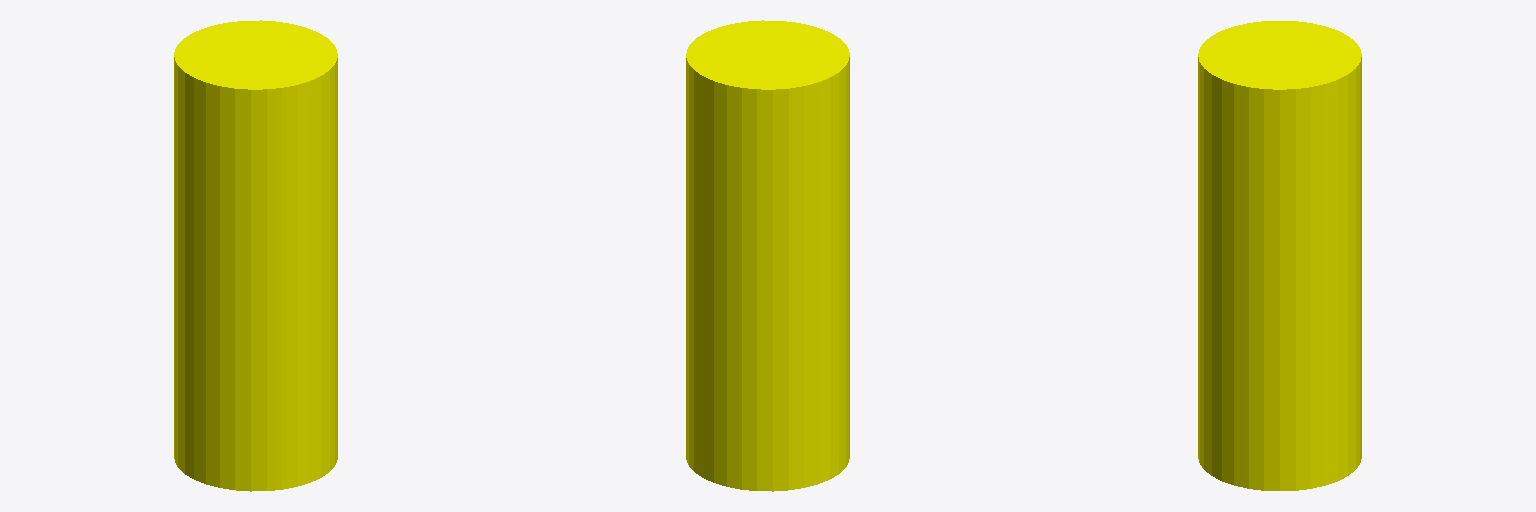
The robot description file, URDF, robot "rod.urdf":
<?xml version="0.0" ?>
<robot name="rod.urdf">

<link name="baseLink">
	<visual>
    <origin xyz="0 0 0" rpy="0 0 0"/>
    <geometry>
        <!-- this was the visual used for experiments...but it doesn't match collision, so be careful -->
<!--      <cylinder radius="0.0125" length="0.1"/>-->
      <cylinder radius="0.0185" length="0.1"/>
    </geometry>
    <material name="yellow">
        <color rgba="1 1 0 1"/>
      </material>
  </visual>
  <collision>
    <origin xyz="0.0 0 0" rpy="0 0 0"/>
    <geometry>
      <!-- tolerance values based on hole being 4cm diameter -->
      <!-- tolerance: 1.5cm -->
<!--      <cylinder radius="0.0125" length="0.07"/>-->
      <!-- tolerance:: .25cm -->
<!--      <cylinder radius="0.01875" length="0.1"/>-->
      <!-- tolerance: .5cm -->
<!--      <cylinder radius="0.0175" length="0.1"/>-->
        <!-- tolerance: .3cm -->
      <cylinder radius="0.0185" length="0.1"/>
    </geometry>
  </collision>
  <inertial>
    <mass value="0.1"/>
    <origin rpy="0 0 0" xyz="0.0 0.0 0.0"/>
    <inertia ixx="0.000526462289415" ixy="0.0" ixz="0.0" iyy="0.000526462289415" iyz="0.0" izz="0.000568125"/>
    <!-- <inertia ixx="1" ixy="0.0" ixz="0.0" iyy="1" iyz="0.0" izz="1"/> -->
  </inertial>
    <contact>
<!--      <lateral_friction value=".8"/>-->
      <lateral_friction value="1.0"/>
      <inertia_scaling value="3.0"/>
    </contact>
</link>

</robot>

--- What the picture shows (computed from the rendered views, not written in the file) ---
The picture shows the robot from 3 angles, left to right: view 1: azimuth 30°, elevation 25°; view 2: azimuth 150°, elevation 25°; view 3: azimuth 270°, elevation 25°; orthographic projection.
Robot: rod.urdf — 1 links, 0 joints (none); root link baseLink; default pose: all joints at 0.
Links seen in each view (by area): view 1: baseLink; view 2: baseLink; view 3: baseLink.
Link boxes in pixels (x1,y1,x2,y2): baseLink: (174,20,337,491); baseLink: (686,20,849,491); baseLink: (1198,21,1361,490).
Bounding box of the posed robot: 0.037 × 0.037 × 0.1 m (x, y, z).
Geometry: primitives only (box / cylinder / sphere), no mesh files.
